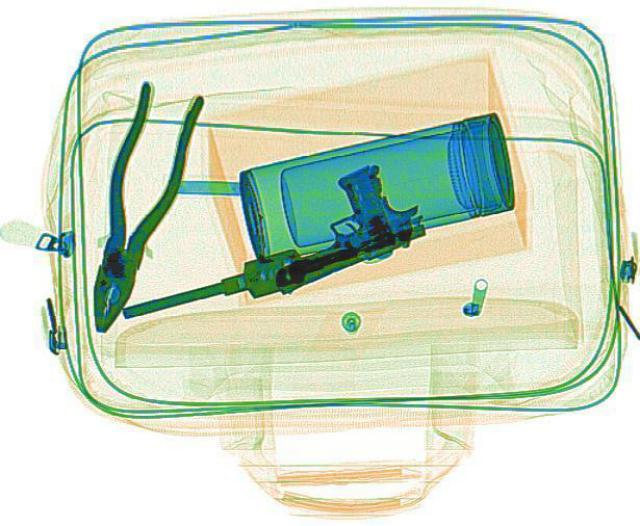Gun: (227, 154, 438, 296)
Pliers: (64, 79, 208, 337)
